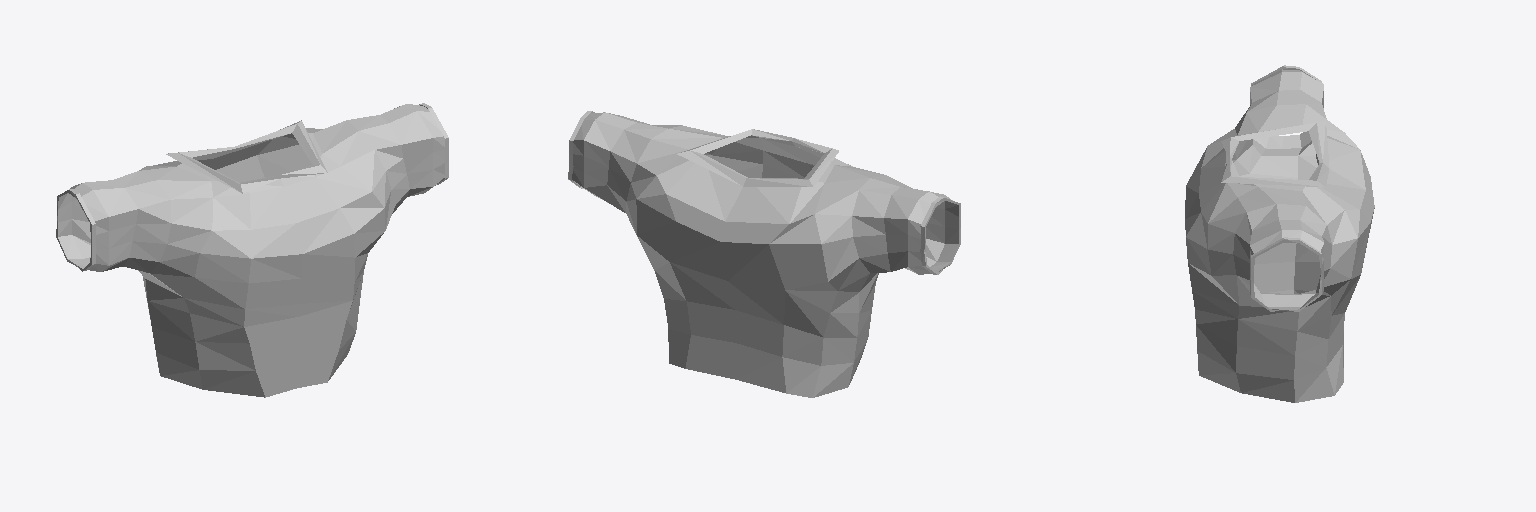
File: Texture_Ready_Cartoon_Shirt.obj
3 renders of one model, left to right at view 1: azimuth 30°, elevation 25°; view 2: azimuth 150°, elevation 25°; view 3: azimuth 270°, elevation 25°, orthographic.
Visible parts, largest first — view 1: Shirt; view 2: Shirt; view 3: Shirt.
Part boxes in pixels (left/top/right/bottom): Shirt: left=56, top=103, right=448, bottom=397; Shirt: left=568, top=111, right=960, bottom=397; Shirt: left=1185, top=65, right=1374, bottom=402.
Size of the model in its own units: 4.59 by 2.56 by 2.1.